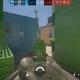Character: (28, 50, 34, 58)
